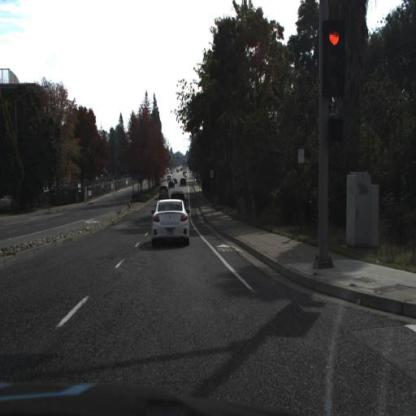car: (150, 197, 192, 247), (170, 189, 188, 205), (158, 185, 172, 202), (180, 177, 189, 190)
trafficLight-Red: (324, 22, 345, 98)
